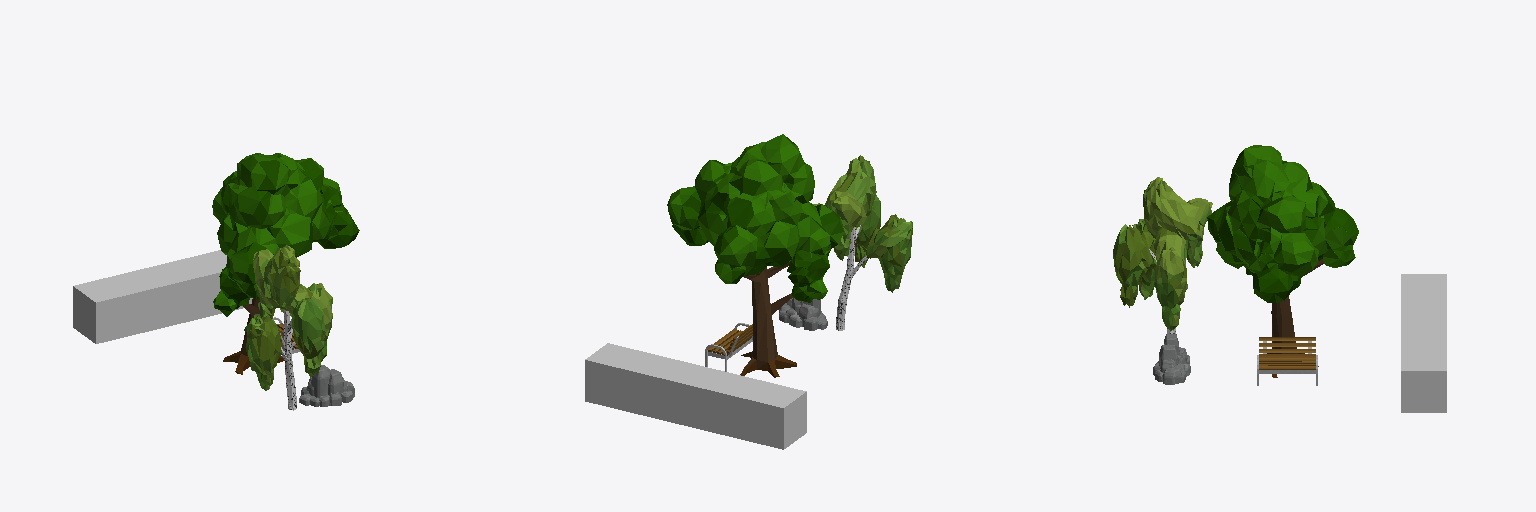
3 renders of one model, left to right at view 1: azimuth 30°, elevation 25°; view 2: azimuth 150°, elevation 25°; view 3: azimuth 270°, elevation 25°, orthographic.
Parts seen in each view (by area): view 1: _6_tree__6_tree_0__6_tree__6_tree_0.001, _10_tree__10_tree_0__10_tree__10_tree_0.001, Cube.004, Cube, Cube.002, Rock_1__Rock_1__0_Rock_1__Rock_1__0.001, Cube.001; view 2: _6_tree__6_tree_0__6_tree__6_tree_0.001, _10_tree__10_tree_0__10_tree__10_tree_0.001, Cube.004, Cube.001, Cube.002, Cube.003, Cube, Rock_1__Rock_1__0_Rock_1__Rock_1__0.001; view 3: _6_tree__6_tree_0__6_tree__6_tree_0.001, _10_tree__10_tree_0__10_tree__10_tree_0.001, Cube.003, Rock_1__Rock_1__0_Rock_1__Rock_1__0.001, Cube, Cube.004, Cube.001, Cube.002.
Part boxes in pixels (bbox=[...]): _6_tree__6_tree_0__6_tree__6_tree_0.001: bbox=[212, 153, 359, 374]; _10_tree__10_tree_0__10_tree__10_tree_0.001: bbox=[244, 244, 332, 410]; Cube.004: bbox=[73, 276, 135, 343]; Cube: bbox=[153, 257, 214, 324]; Cube.002: bbox=[113, 267, 174, 333]; Rock_1__Rock_1__0_Rock_1__Rock_1__0.001: bbox=[299, 365, 354, 406]; Cube.001: bbox=[193, 250, 252, 314]; _6_tree__6_tree_0__6_tree__6_tree_0.001: bbox=[667, 134, 843, 377]; _10_tree__10_tree_0__10_tree__10_tree_0.001: bbox=[813, 155, 912, 330]; Cube.004: bbox=[744, 382, 806, 449]; Cube.001: bbox=[625, 353, 686, 420]; Cube.002: bbox=[704, 372, 765, 439]; Cube.003: bbox=[585, 343, 646, 410]; Cube: bbox=[665, 362, 726, 429]; Rock_1__Rock_1__0_Rock_1__Rock_1__0.001: bbox=[779, 298, 827, 330]; _6_tree__6_tree_0__6_tree__6_tree_0.001: bbox=[1207, 145, 1358, 377]; _10_tree__10_tree_0__10_tree__10_tree_0.001: bbox=[1113, 177, 1212, 333]; Cube.003: bbox=[1401, 352, 1446, 412]; Rock_1__Rock_1__0_Rock_1__Rock_1__0.001: bbox=[1153, 334, 1190, 384]; Cube: bbox=[1401, 313, 1446, 332]; Cube.004: bbox=[1401, 274, 1446, 293]; Cube.001: bbox=[1401, 333, 1446, 351]; Cube.002: bbox=[1401, 294, 1446, 312].
Bounding box in the file's own units: 10 × 10.43 × 14.57.
Materials: 9 (4 with a texture image).